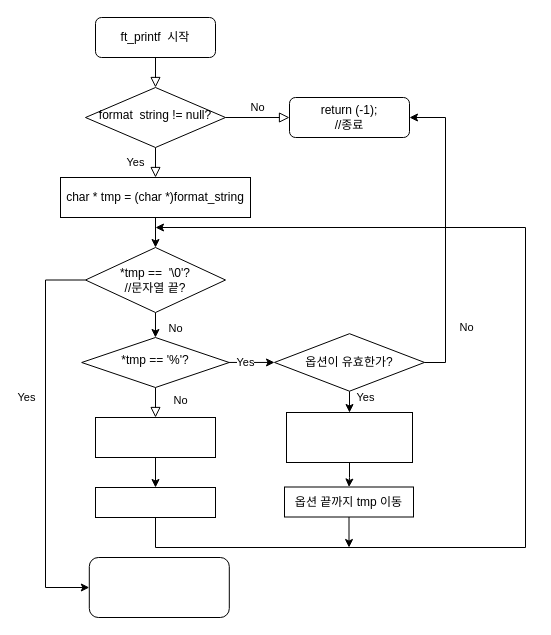
The diagram is 551 pixels wide and 635 high, and some of its shapes have lost their labels. The shapes that lost their labels are listed below. From the top down, each one's centre as x and y in pixels, then its label:
pixel 155 437: write(1, tmp, 1); //한글자 출력
pixel 349 437: 옵션을 반영하여 해당 variable_argument 문자열 형태로 출력
pixel 155 502: tmp++;
pixel 158 587: return (word count); //출력한 글자 갯수. //종료
